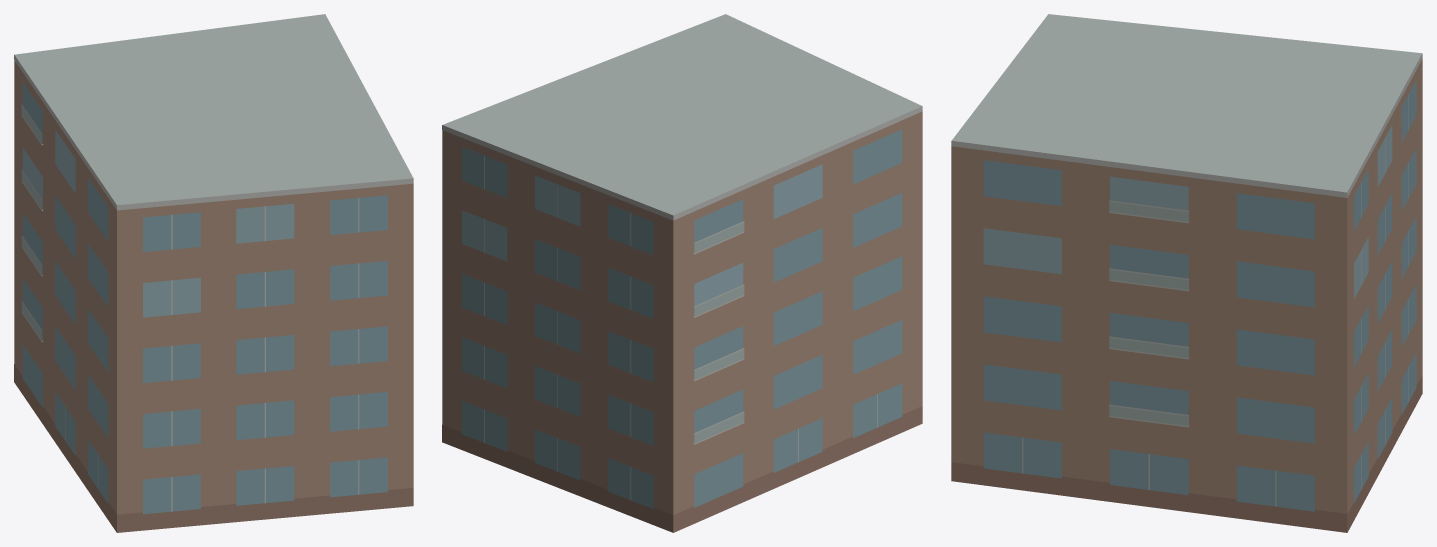
The model's file is survey-upis-32531327.glb.
The picture shows the model from 3 angles, left to right: view 1: azimuth 30°, elevation 25°; view 2: azimuth 150°, elevation 25°; view 3: azimuth 270°, elevation 25°; orthographic projection. The views are drawn at different scales.
Parts seen in each view (by area): view 1: survey-upis-32531327.tmp; view 2: survey-upis-32531327.tmp; view 3: survey-upis-32531327.tmp.
Boxes of the visible parts, <box> form: survey-upis-32531327.tmp: <box>14,14,413,532</box>; survey-upis-32531327.tmp: <box>442,14,922,532</box>; survey-upis-32531327.tmp: <box>951,14,1422,532</box>.
Size of the model in its own units: 17.17 by 15.25 by 19.14.
